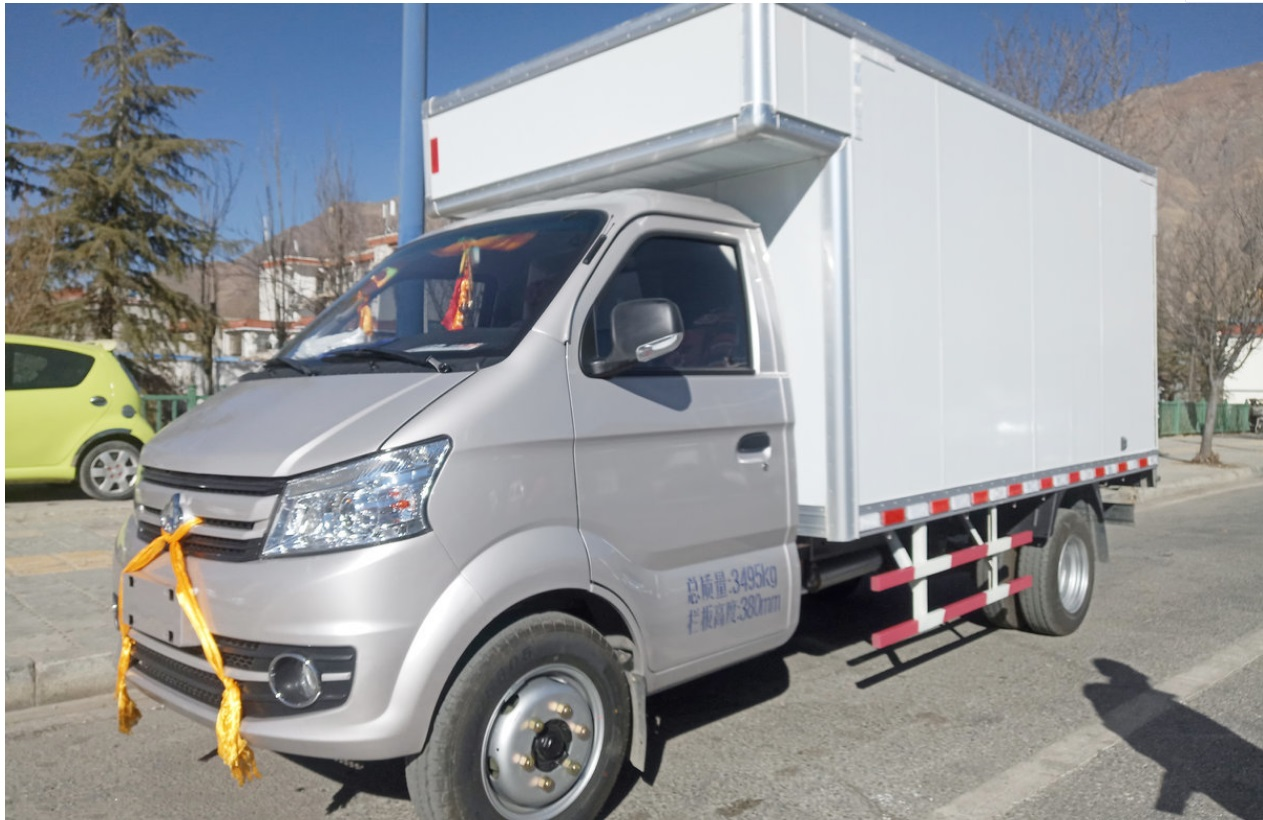truck: (104, 2, 1167, 820)
